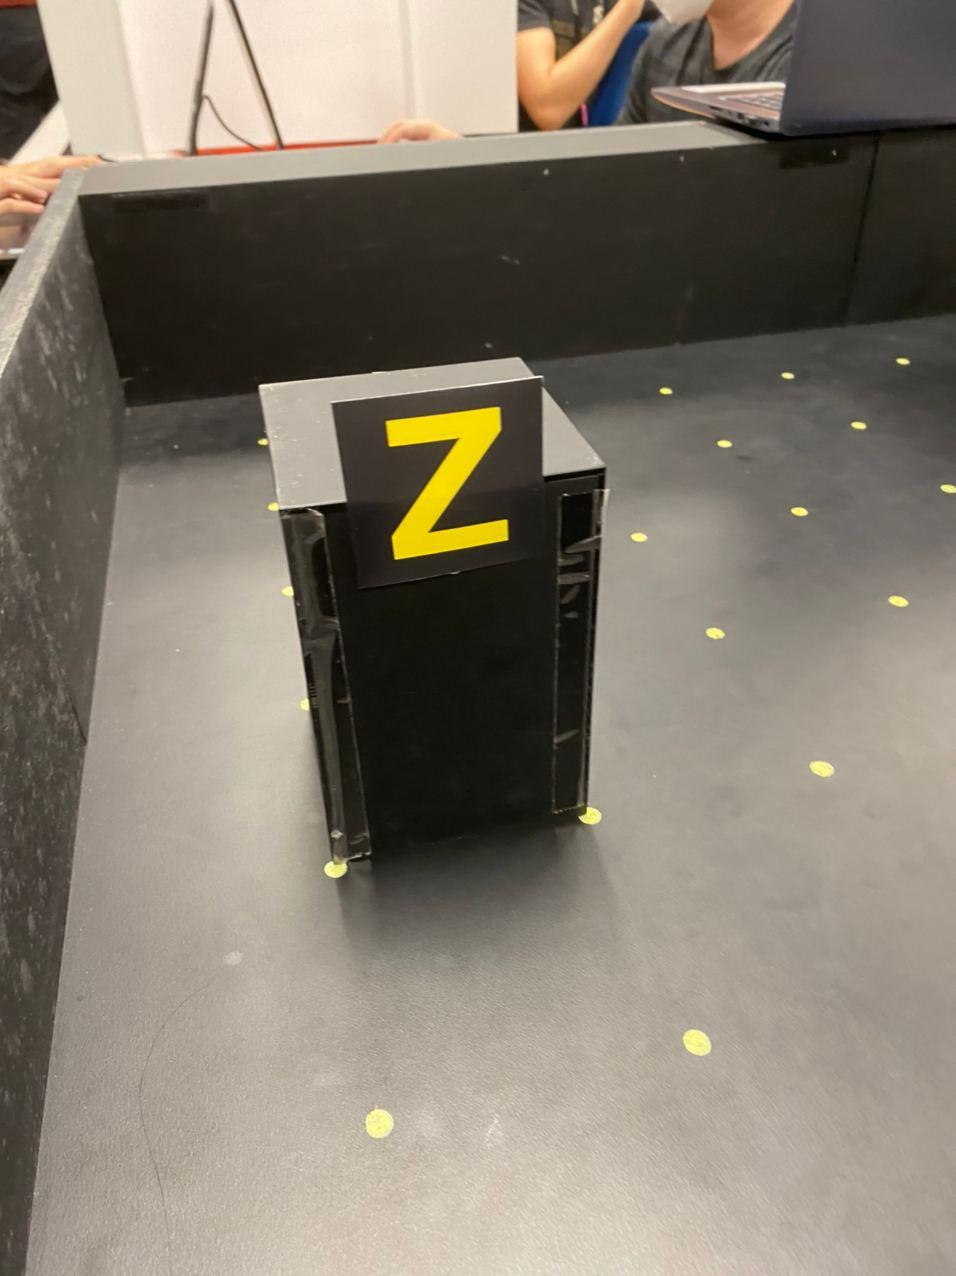z: (364, 398, 513, 560)
